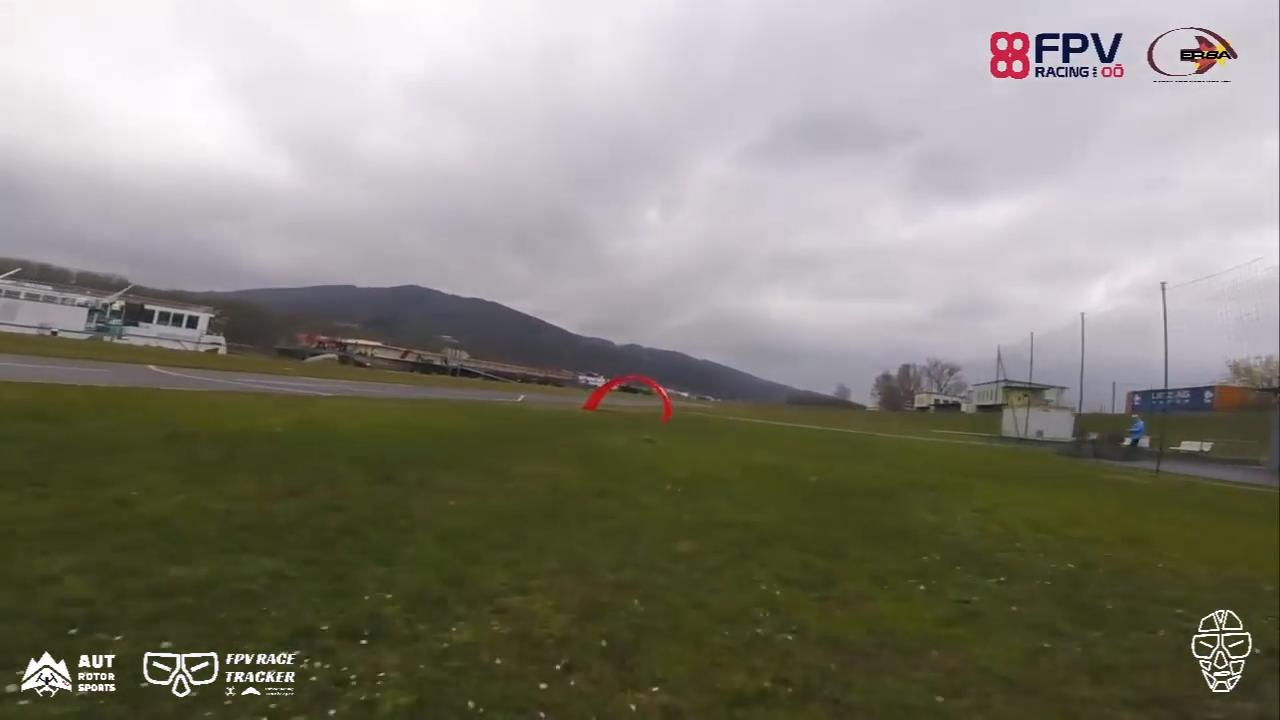gate: (584, 372, 672, 427)
